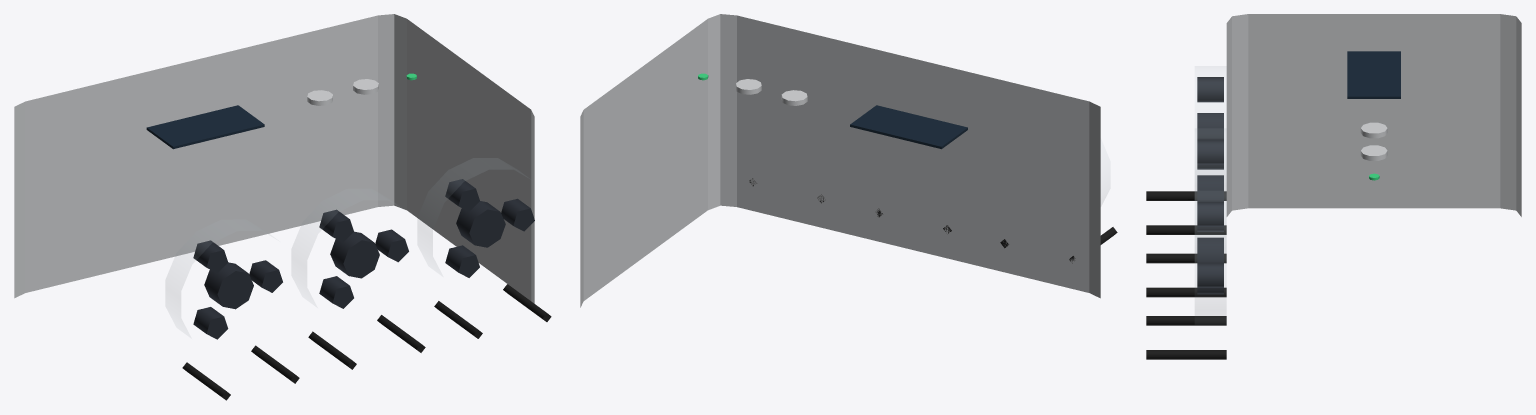
Rendered from pump-dosing-peristaltic-3ch.glb.
The picture shows the model from 3 angles, left to right: view 1: azimuth 30°, elevation 25°; view 2: azimuth 150°, elevation 25°; view 3: azimuth 270°, elevation 25°; orthographic projection.
Visible parts, largest first — view 1: dosing_body, dosing_rotor_2, dosing_rotor_3, dosing_rotor_1, dosing_display, dosing_buttons; view 2: dosing_body, dosing_display, dosing_buttons; view 3: dosing_body, dosing_display, dosing_rotor_3, dosing_rotor_1, dosing_rotor_2, dosing_tube_5, dosing_tube_6, dosing_buttons, dosing_tube_4, dosing_tube_2, dosing_tube_3, dosing_tube_1.
Part boxes in pixels (x1,y1,x2,y2): dosing_body: [14, 14, 534, 303]; dosing_rotor_2: [319, 209, 408, 308]; dosing_rotor_3: [445, 179, 534, 277]; dosing_rotor_1: [193, 240, 282, 339]; dosing_display: [146, 105, 264, 149]; dosing_buttons: [307, 79, 378, 105]; dosing_body: [580, 14, 1100, 307]; dosing_display: [850, 105, 967, 149]; dosing_buttons: [736, 79, 807, 105]; dosing_body: [1226, 14, 1521, 216]; dosing_display: [1347, 51, 1400, 98]; dosing_rotor_3: [1197, 201, 1223, 294]; dosing_rotor_1: [1197, 77, 1223, 169]; dosing_rotor_2: [1197, 139, 1223, 231]; dosing_tube_5: [1146, 316, 1226, 325]; dosing_tube_6: [1146, 350, 1226, 359]; dosing_buttons: [1360, 122, 1387, 160]; dosing_tube_4: [1146, 287, 1226, 297]; dosing_tube_2: [1146, 225, 1226, 234]; dosing_tube_3: [1146, 253, 1226, 263]; dosing_tube_1: [1146, 191, 1226, 200].
Size of the model in its own units: 0.17 by 0.082 by 0.14.
